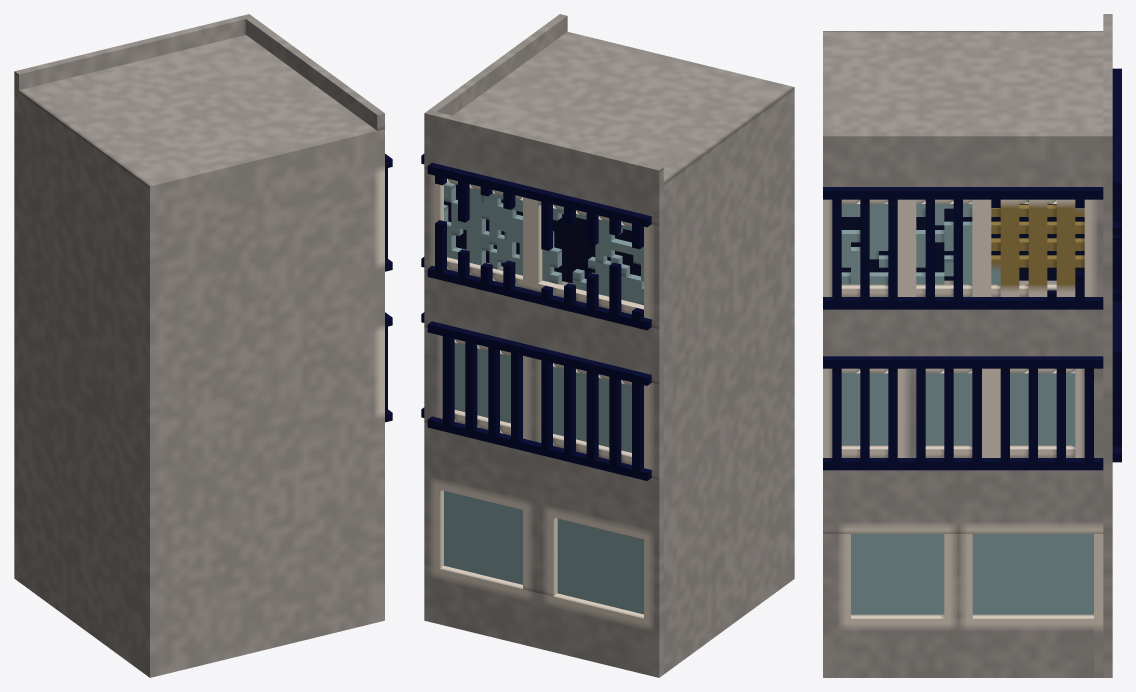
File: sierociniec_bok_znisczon.dae
3 views of the same model, side by side, from view 1: azimuth 30°, elevation 25°; view 2: azimuth 150°, elevation 25°; view 3: azimuth 270°, elevation 25° (orthographic). The views are drawn at different scales.
Visible parts, largest first — view 1: Content; view 2: Content; view 3: Content.
Part boxes in pixels (x1,y1,x2,y2): Content: [14, 14, 392, 677]; Content: [421, 14, 794, 677]; Content: [823, 14, 1121, 677].
Size of the model in its own units: 32 by 64 by 32.
Materials: 1 (1 with a texture image).
